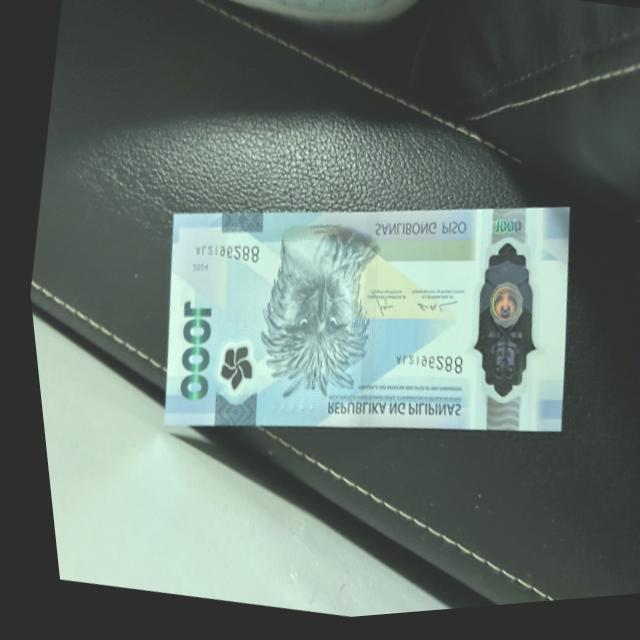clear_window: (445, 243, 554, 413)
eagle: (241, 221, 384, 406)
sampaguita: (205, 344, 248, 397)
